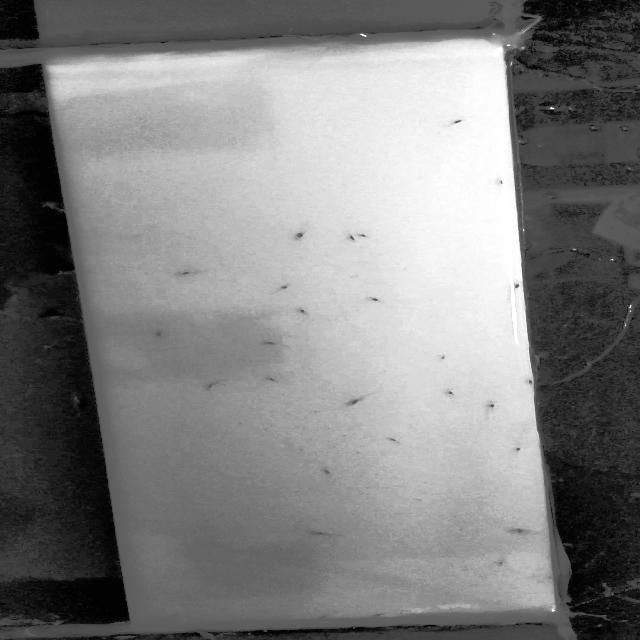shrimp: (359, 294, 398, 309), (502, 523, 534, 538), (301, 528, 340, 540), (438, 114, 471, 128), (287, 302, 318, 316), (341, 393, 367, 409), (290, 229, 319, 243), (170, 268, 196, 281), (508, 442, 528, 457), (270, 282, 299, 292), (316, 466, 338, 479), (146, 330, 174, 340), (481, 399, 502, 410), (513, 376, 536, 386), (261, 376, 283, 386), (434, 353, 452, 365), (201, 380, 218, 392), (356, 231, 375, 241), (438, 388, 458, 397), (258, 340, 280, 348), (340, 233, 358, 242), (508, 282, 521, 291)
